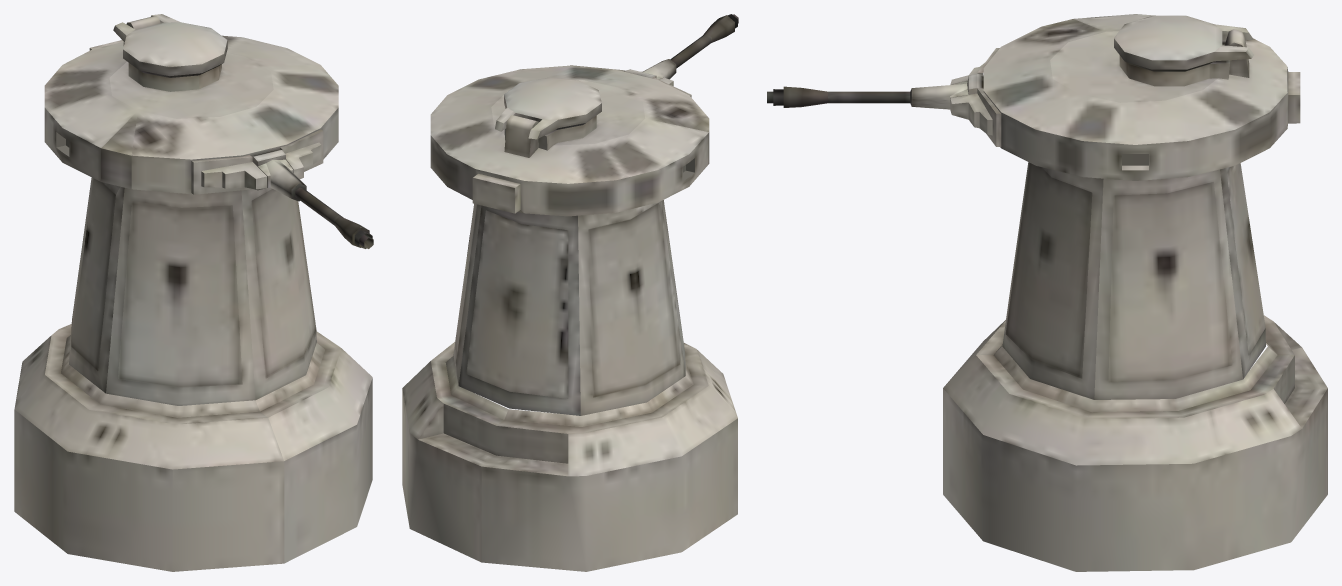
The model's file is turret.far.glb.
3 views of the same model, side by side, from view 1: azimuth 30°, elevation 25°; view 2: azimuth 150°, elevation 25°; view 3: azimuth 270°, elevation 25° (orthographic). The views are drawn at different scales.
Size of the model in its own units: 2.55 by 3.58 by 3.91.
Materials: 1 (1 with a texture image).
